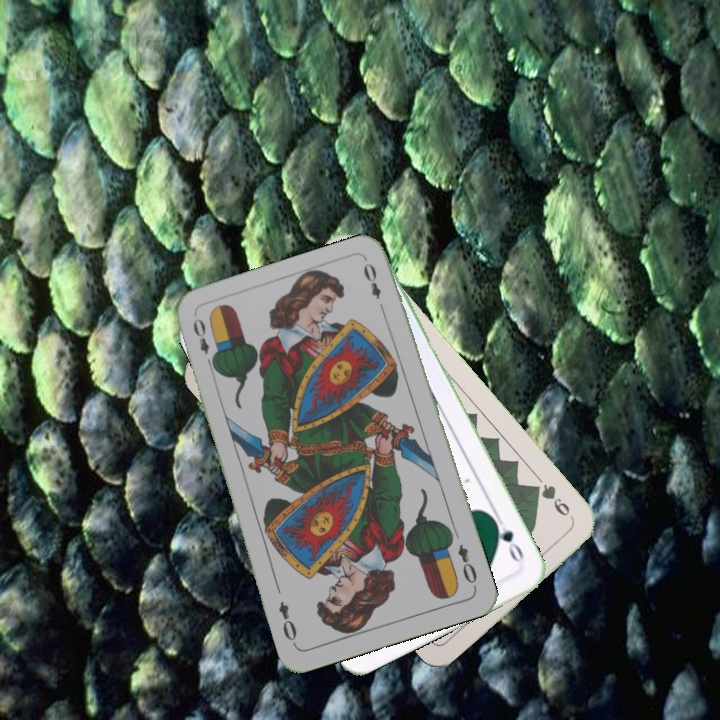EO: (189, 314, 218, 371), (453, 540, 480, 591)
G9: (528, 479, 577, 523)
GO: (489, 512, 526, 568)
